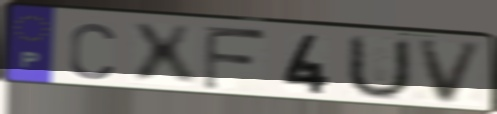4: (281, 33, 333, 97)
C: (66, 20, 118, 81)
F: (201, 23, 271, 93)
U: (342, 33, 414, 102)
V: (416, 39, 488, 107)
X: (128, 22, 201, 87)
